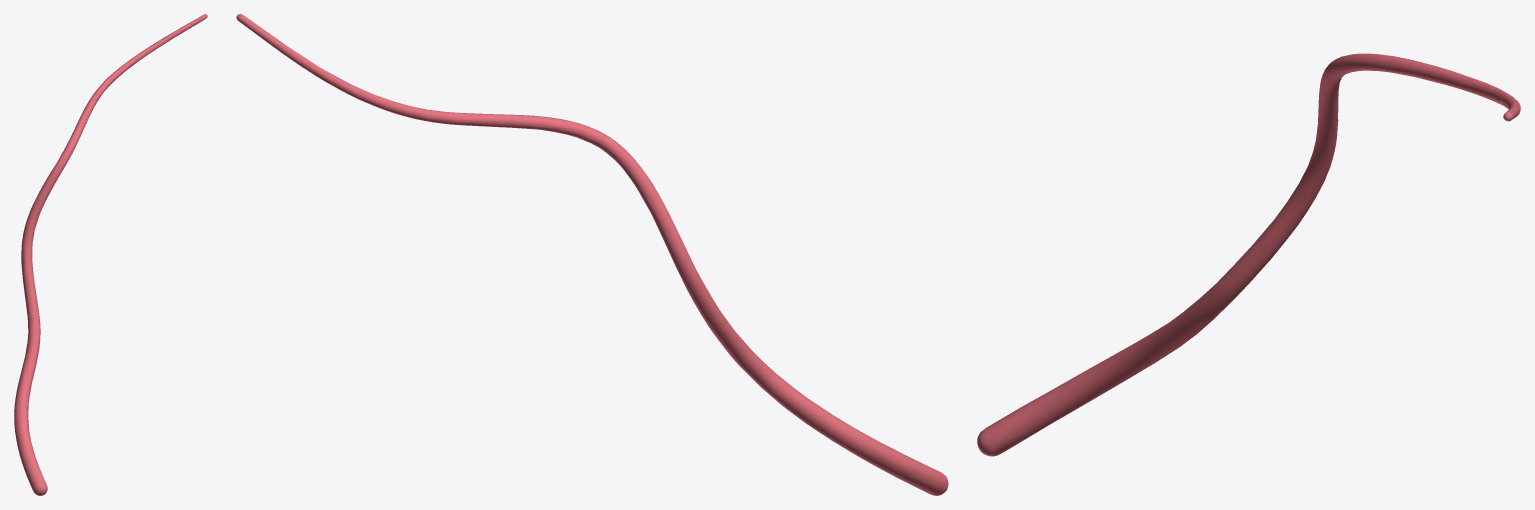
Rendered from fma50486_fj1667.glb.
The picture shows the model from 3 angles, left to right: view 1: azimuth 30°, elevation 25°; view 2: azimuth 150°, elevation 25°; view 3: azimuth 270°, elevation 25°; orthographic projection. The views are drawn at different scales.
Parts seen in each view (by area): view 1: FMA50486_FJ1667; view 2: FMA50486_FJ1667; view 3: FMA50486_FJ1667.
Part boxes in pixels (x1=…): FMA50486_FJ1667: x1=14, y1=14, x2=207, y2=495; FMA50486_FJ1667: x1=236, y1=14, x2=948, y2=495; FMA50486_FJ1667: x1=977, y1=53, x2=1520, y2=456.
Bounding box in the file's own units: 0.0345 × 0.0343 × 0.0268.
